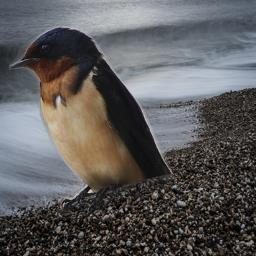Swallow: (9, 25, 175, 215)
